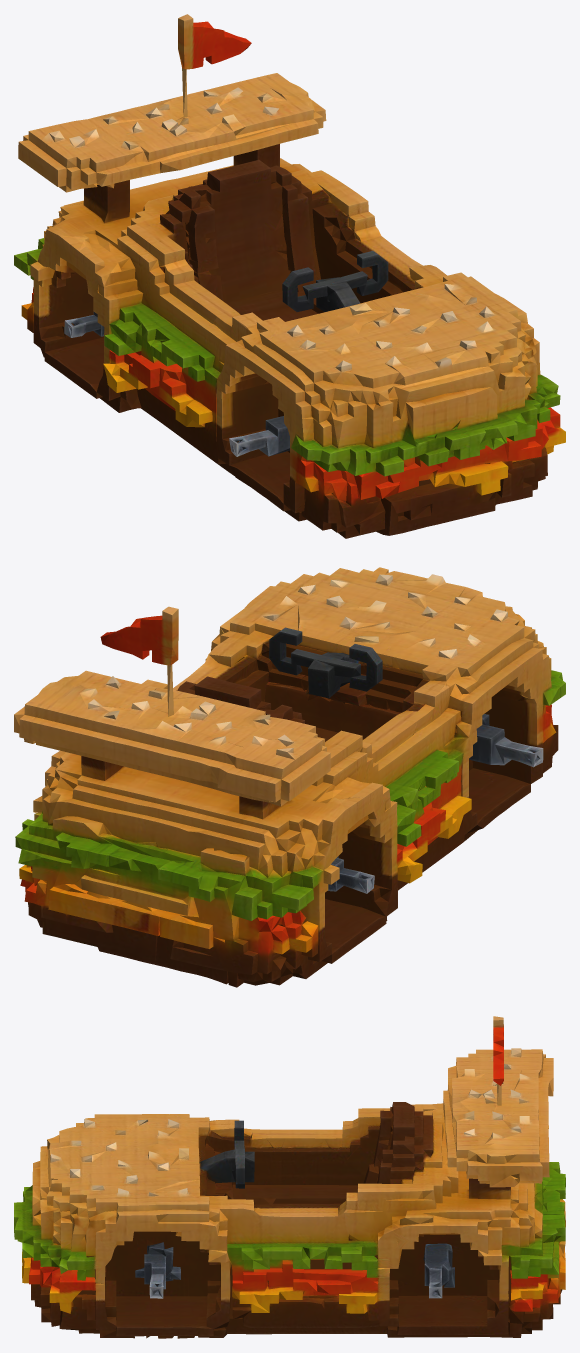
Rendered from burger.glb.
The picture shows the model from 3 angles, top to bottom: view 1: azimuth 30°, elevation 25°; view 2: azimuth 150°, elevation 25°; view 3: azimuth 270°, elevation 25°; orthographic projection. The views are drawn at different scales.
Visible parts, largest first — view 1: model; view 2: model; view 3: model.
Boxes of the visible parts, <box> form: model: <box>14,14,565,538</box>; model: <box>14,567,565,987</box>; model: <box>14,1016,565,1338</box>.
Size of the model in its own units: 0.999 by 1.03 by 1.89.
1 material, 1 textured.
